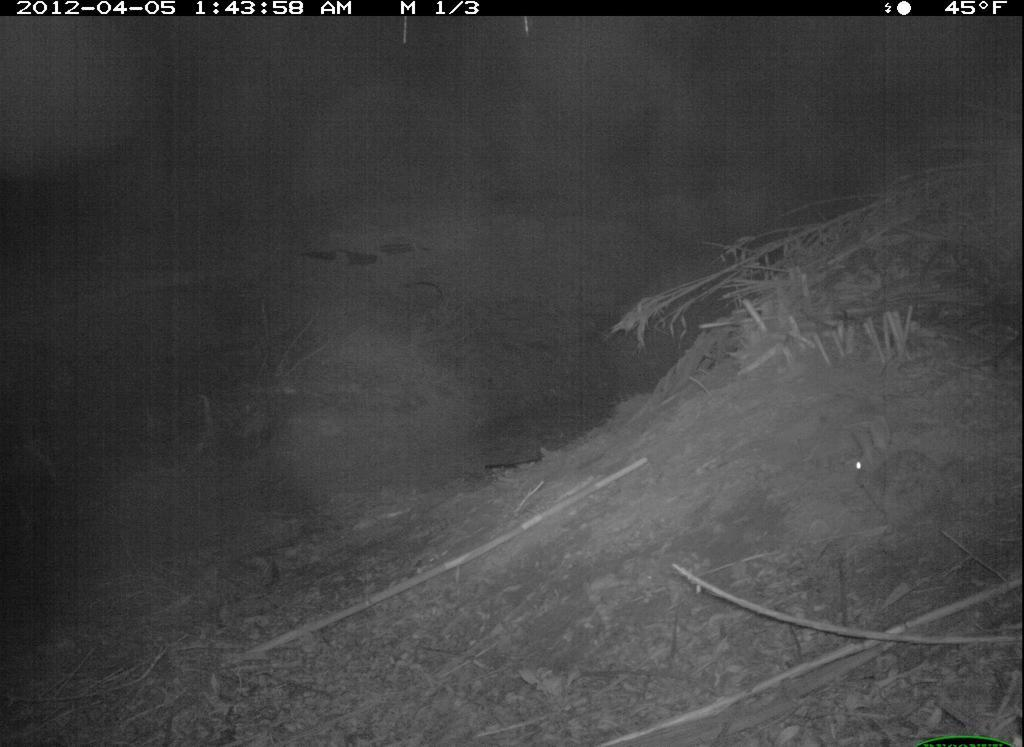rabbit: (840, 419, 964, 556)
